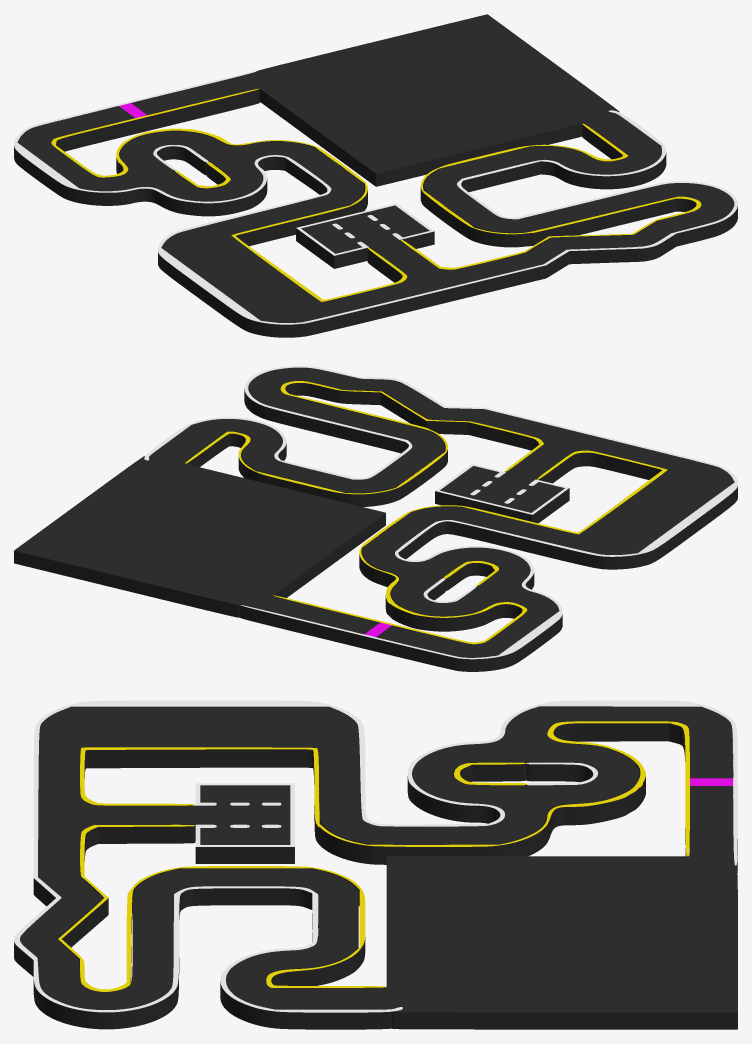
File: course_v2.dae
The picture shows the model from 3 angles, top to bottom: view 1: azimuth 30°, elevation 25°; view 2: azimuth 150°, elevation 25°; view 3: azimuth 270°, elevation 25°; orthographic projection. The views are drawn at different scales.
Visible parts, largest first — view 1: node_1, node_2, node_3, node_16, node_18, node_0, node_17, node_19, node_4, node_5, node_6; view 2: node_1, node_2, node_18, node_3, node_0, node_16, node_17, node_19, node_4, node_5, node_20; view 3: node_1, node_16, node_2, node_3, node_0, node_18, node_17, node_19, node_4, node_5, node_6, node_20.
Part boxes in pixels (box(x1,y1,x2,y2)): node_1: box(17, 14, 734, 322); node_2: box(14, 73, 737, 337); node_3: box(14, 71, 737, 324); node_16: box(51, 89, 402, 282); node_18: box(400, 124, 699, 254); node_0: box(51, 88, 695, 276); node_17: box(51, 88, 407, 301); node_19: box(401, 123, 701, 269); node_4: box(296, 228, 434, 268); node_5: box(296, 203, 434, 255); node_6: box(153, 146, 206, 175); node_1: box(14, 367, 734, 657); node_2: box(240, 386, 737, 671); node_18: box(186, 383, 539, 506); node_3: box(144, 366, 737, 659); node_0: box(14, 380, 661, 617); node_16: box(275, 452, 661, 644); node_17: box(273, 450, 667, 644); node_19: box(185, 381, 543, 494); node_4: box(435, 477, 569, 523); node_5: box(435, 464, 569, 514); node_20: box(445, 563, 498, 590); node_1: box(20, 706, 737, 1012); node_16: box(84, 723, 689, 864); node_2: box(14, 706, 737, 1029); node_3: box(14, 700, 737, 1012); node_0: box(57, 721, 737, 1029); node_18: box(58, 826, 386, 991); node_17: box(80, 721, 689, 856); node_19: box(58, 824, 385, 991); node_4: box(195, 805, 294, 863); node_5: box(195, 783, 294, 846); node_6: box(526, 764, 595, 785); node_20: box(454, 763, 526, 785).
Size of the model in its own units: 3.95 by 3.87 by 0.1079.
